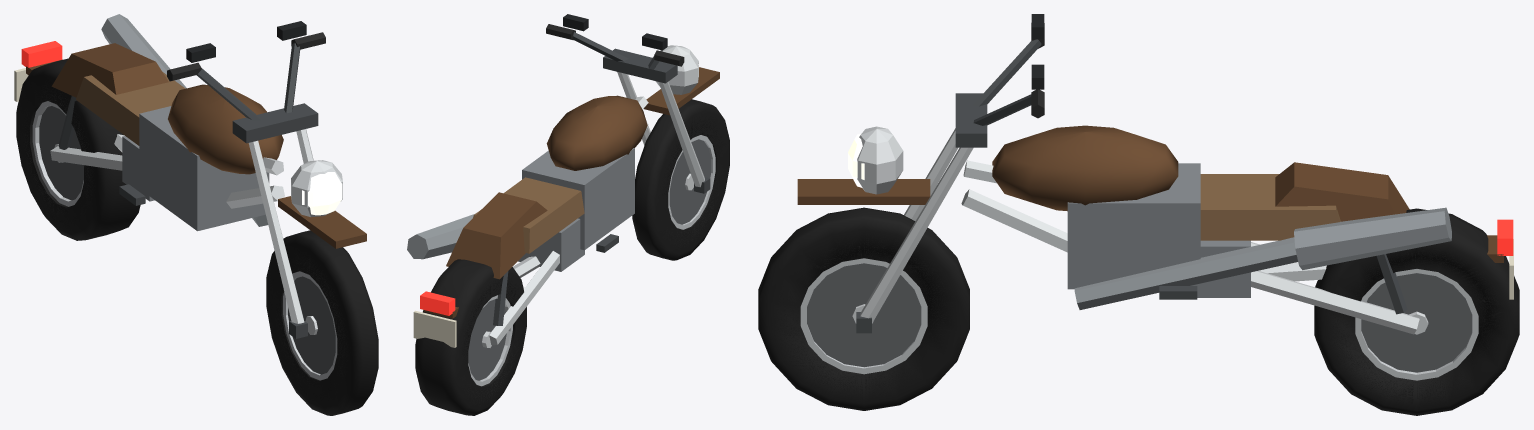
File: oak-cruiser-norider.glb
3 views of the same model, side by side, from view 1: azimuth 30°, elevation 25°; view 2: azimuth 150°, elevation 25°; view 3: azimuth 270°, elevation 25° (orthographic). The views are drawn at different scales.
Visible parts, largest first — view 1: frame, wheel_F, wheel_R, fork, headlight, taillight; view 2: frame, wheel_R, wheel_F, fork, plate_R, headlight, taillight; view 3: frame, wheel_F, wheel_R, fork, headlight.
Part boxes in pixels (x1=…): frame: x1=26, y1=14, x2=284, y2=231; wheel_F: x1=266, y1=230, x2=378, y2=415; wheel_R: x1=16, y1=58, x2=140, y2=240; fork: x1=167, y1=21, x2=366, y2=338; headlight: x1=291, y1=160, x2=342, y2=217; taillight: x1=21, y1=41, x2=62, y2=67; frame: x1=407, y1=95, x2=648, y2=345; wheel_R: x1=415, y1=259, x2=526, y2=415; wheel_F: x1=632, y1=99, x2=729, y2=260; fork: x1=546, y1=14, x2=719, y2=193; plate_R: x1=413, y1=310, x2=456, y2=347; headlight: x1=655, y1=45, x2=698, y2=94; taillight: x1=420, y1=291, x2=455, y2=315; frame: x1=961, y1=125, x2=1503, y2=334; wheel_F: x1=758, y1=207, x2=969, y2=410; wheel_R: x1=1314, y1=208, x2=1519, y2=415; fork: x1=797, y1=14, x2=1044, y2=333; headlight: x1=848, y1=126, x2=903, y2=194.
Size of the model in its own units: 0.6406 by 1.26 by 2.41.
